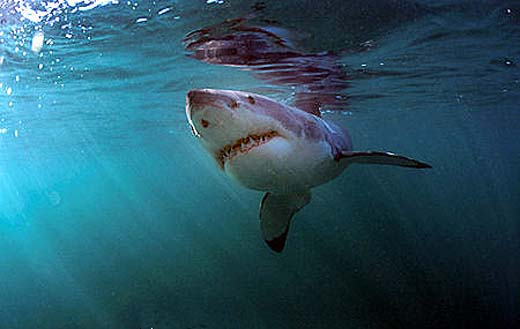Carcharodon_carcharias: (169, 80, 461, 260)
